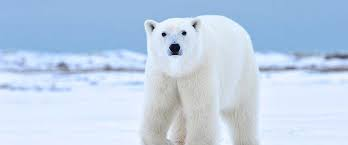PolarBear: (132, 8, 269, 145)
